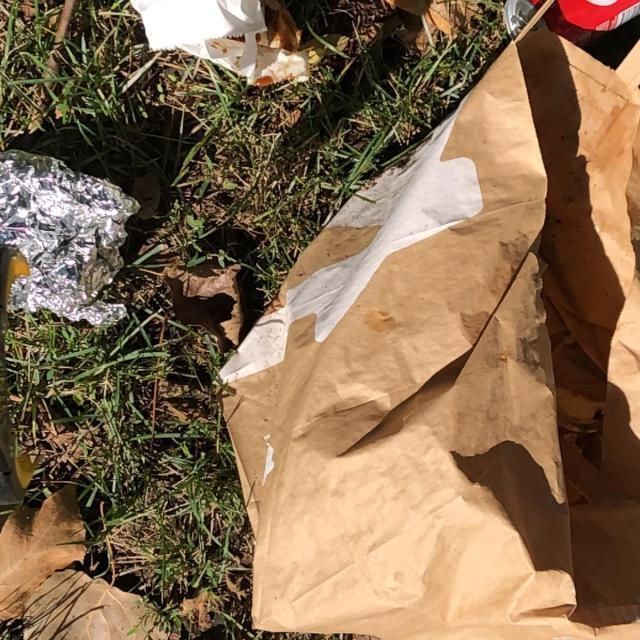Metal: (504, 1, 640, 49)
Paper: (208, 0, 640, 638)
Plastic: (1, 150, 143, 332), (126, 0, 269, 70)
